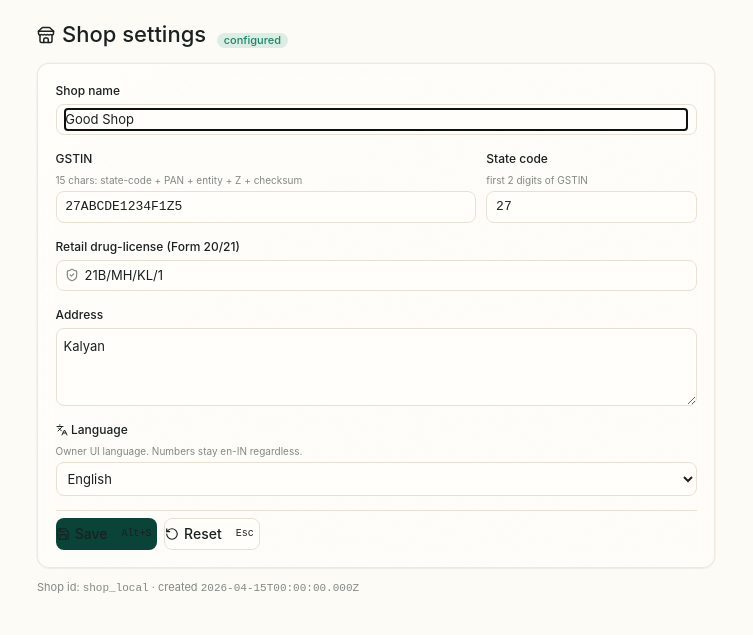
Scenario: SettingsScreen (F5b) › Reset button reverts dirty edits to loaded values
Replace the text in the field with test id "f-name" with "Messed Up" at (376, 119), box [65,109,687,130]
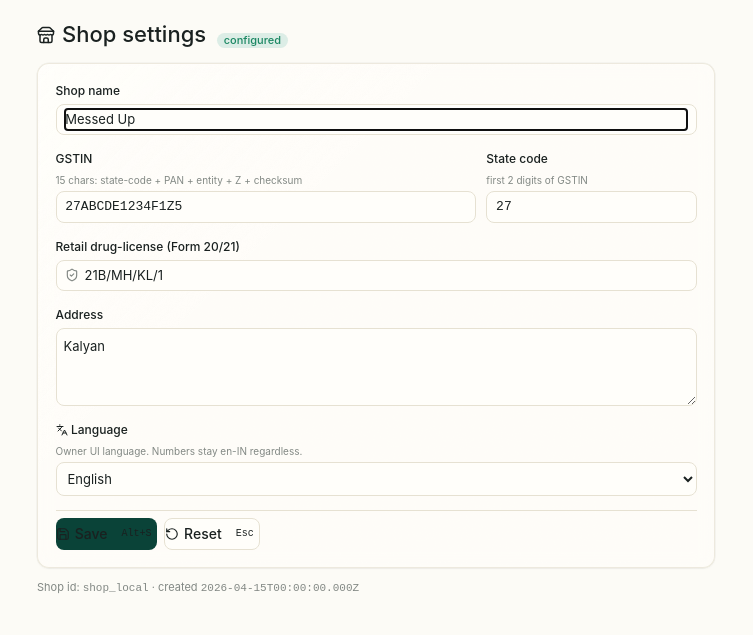
Click the button with test id "f-reset".
click(212, 534)  # box [164,518,260,550]
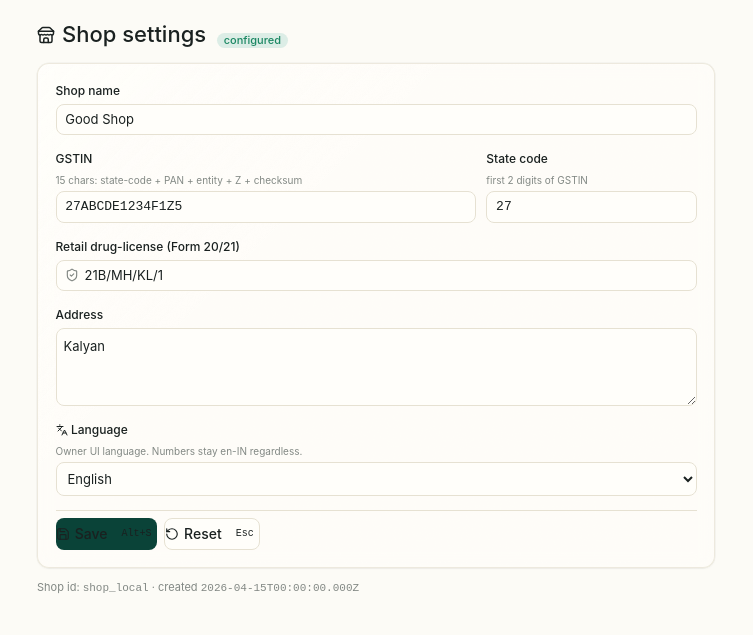
Check: the field with test id "f-name" holds "Good Shop", box [65,109,687,130]
